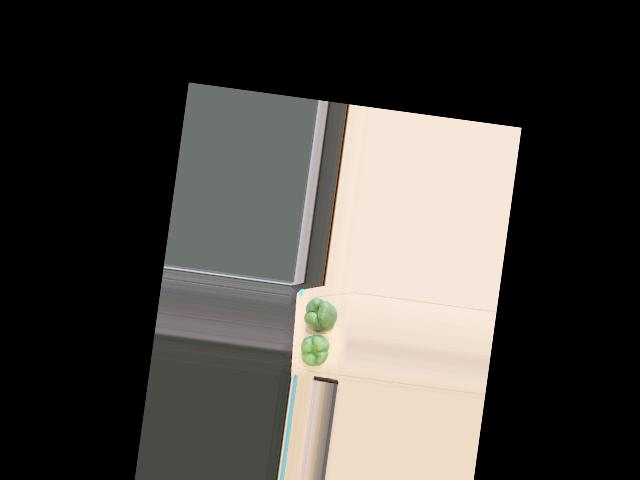bell_pepper: (298, 331, 334, 368)
